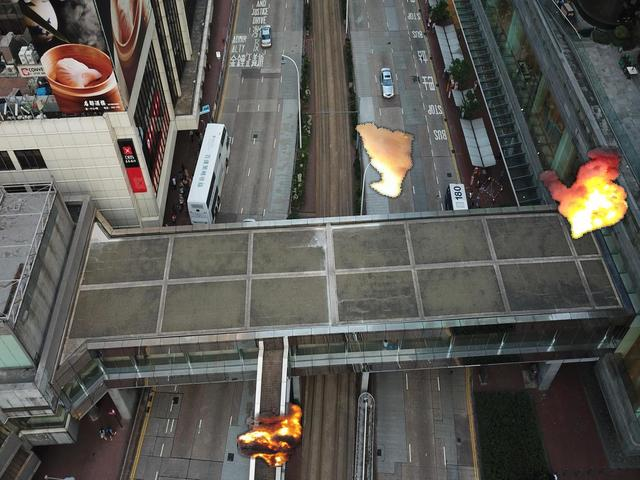fire: (537, 144, 631, 239), (354, 120, 416, 198), (237, 402, 301, 466)
